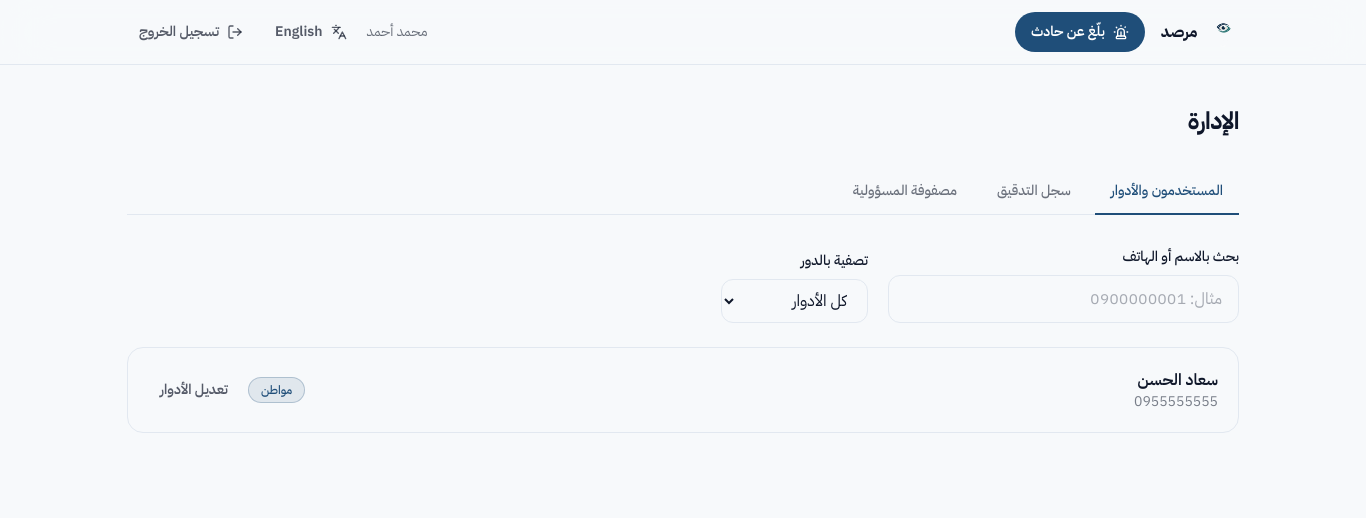
Test case: the audit trail › labels an actorless entry as the system rather than blank
The width and height of the screenshot is (1366, 518).
Click the tab "سجل التدقيق": (1034, 192) [981, 169, 1087, 215]
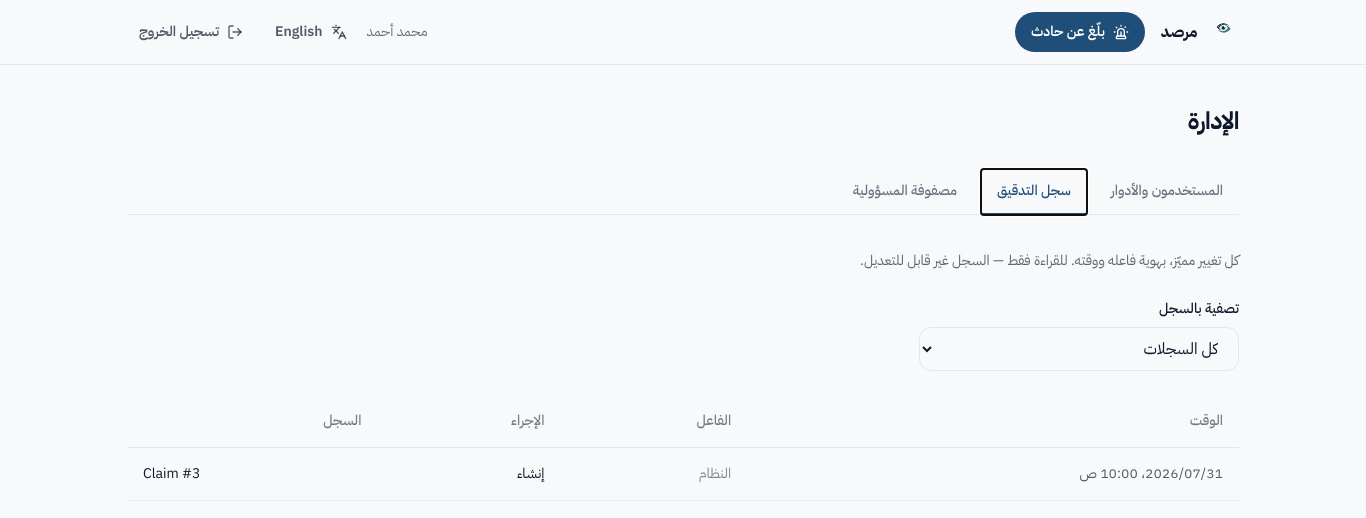
Now the text "النظام" is shown, box [699, 463, 731, 484]
